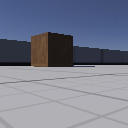obstacle: (31, 32, 73, 67)
